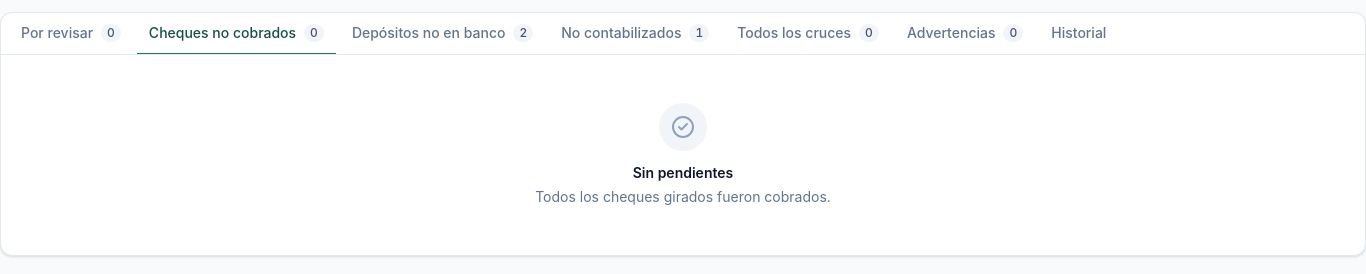
Test: Revisión con cruces agrupados › ofrece "Cruzar…" en un movimiento si hay partidas menores que podrían sumarlo
This screenshot has width=1366, height=274.
Click the tab "No contabilizados 1": (635, 34) [549,13,721,55]
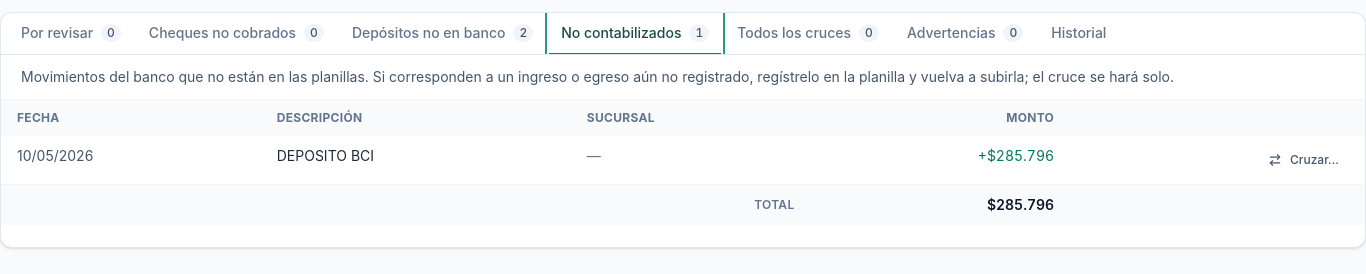
Result: the button "Cruzar…" is shown at [1258,146,1349,174]
